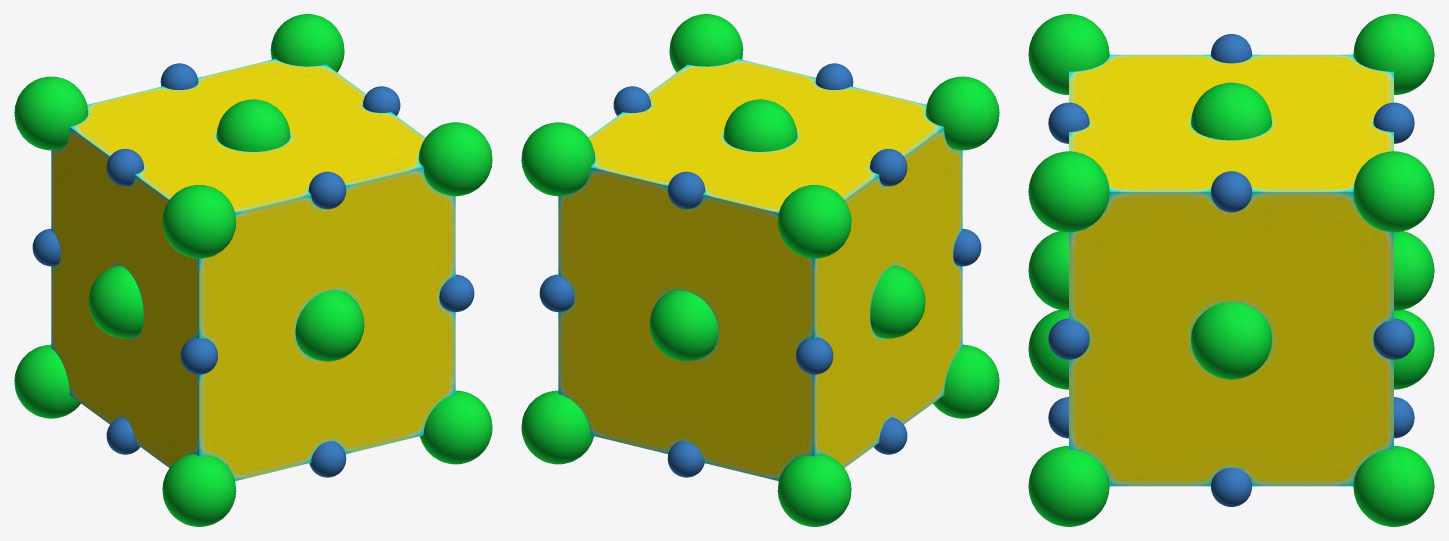
File: nacl.glb
The picture shows the model from 3 angles, left to right: view 1: azimuth 30°, elevation 25°; view 2: azimuth 150°, elevation 25°; view 3: azimuth 270°, elevation 25°; orthographic projection. The views are drawn at different scales.
Parts seen in each view (by area): view 1: NaCl; view 2: NaCl; view 3: NaCl.
Part boxes in pixels (x1,y1,x2,y2): NaCl: (14, 14, 492, 526); NaCl: (521, 14, 999, 526); NaCl: (1028, 14, 1434, 526).
Bounding box in the file's own units: 12.5 × 12.5 × 12.5.
2 materials, 2 textured.
